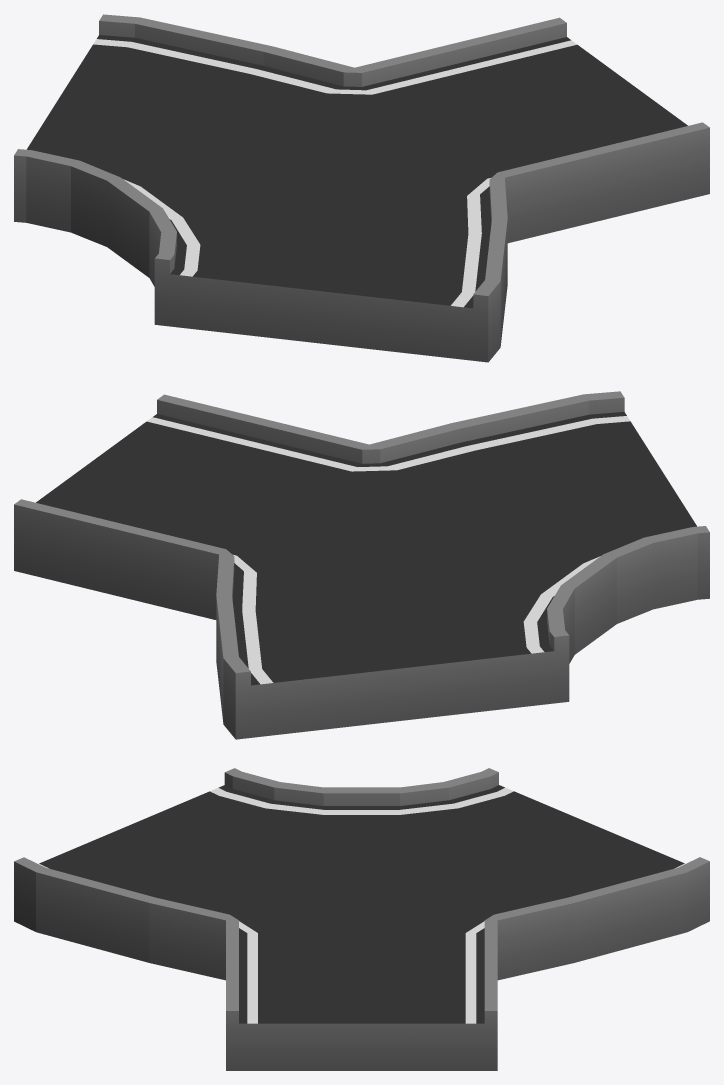
File: Y_Intersection_Road.fbx
3 views of the same model, one above another, from view 1: azimuth 30°, elevation 25°; view 2: azimuth 150°, elevation 25°; view 3: azimuth 270°, elevation 25° (orthographic). The views are drawn at different scales.
Parts seen in each view (by area): view 1: Y_Intersection_Road; view 2: Y_Intersection_Road; view 3: Y_Intersection_Road.
Boxes of the visible parts, x1=… form: Y_Intersection_Road: x1=14, y1=14, x2=709, y2=362; Y_Intersection_Road: x1=14, y1=391, x2=709, y2=739; Y_Intersection_Road: x1=14, y1=768, x2=709, y2=1070.
Bounding box in the file's own units: 421 × 48.52 × 510.
